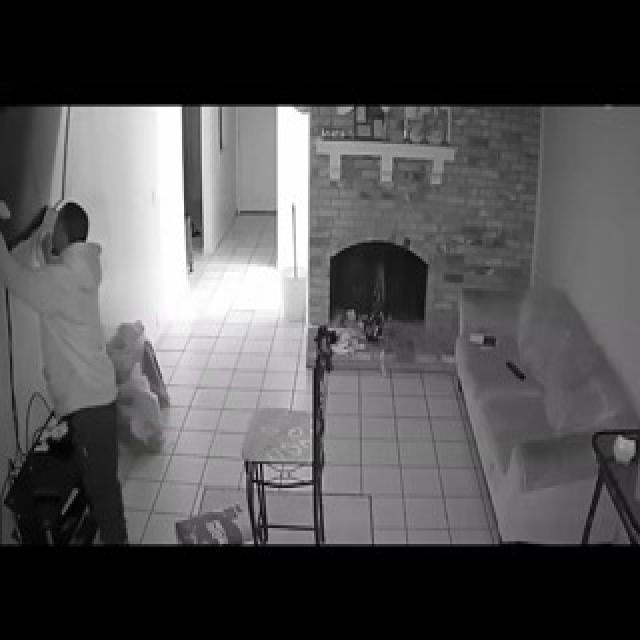thief: (25, 180, 105, 364)
